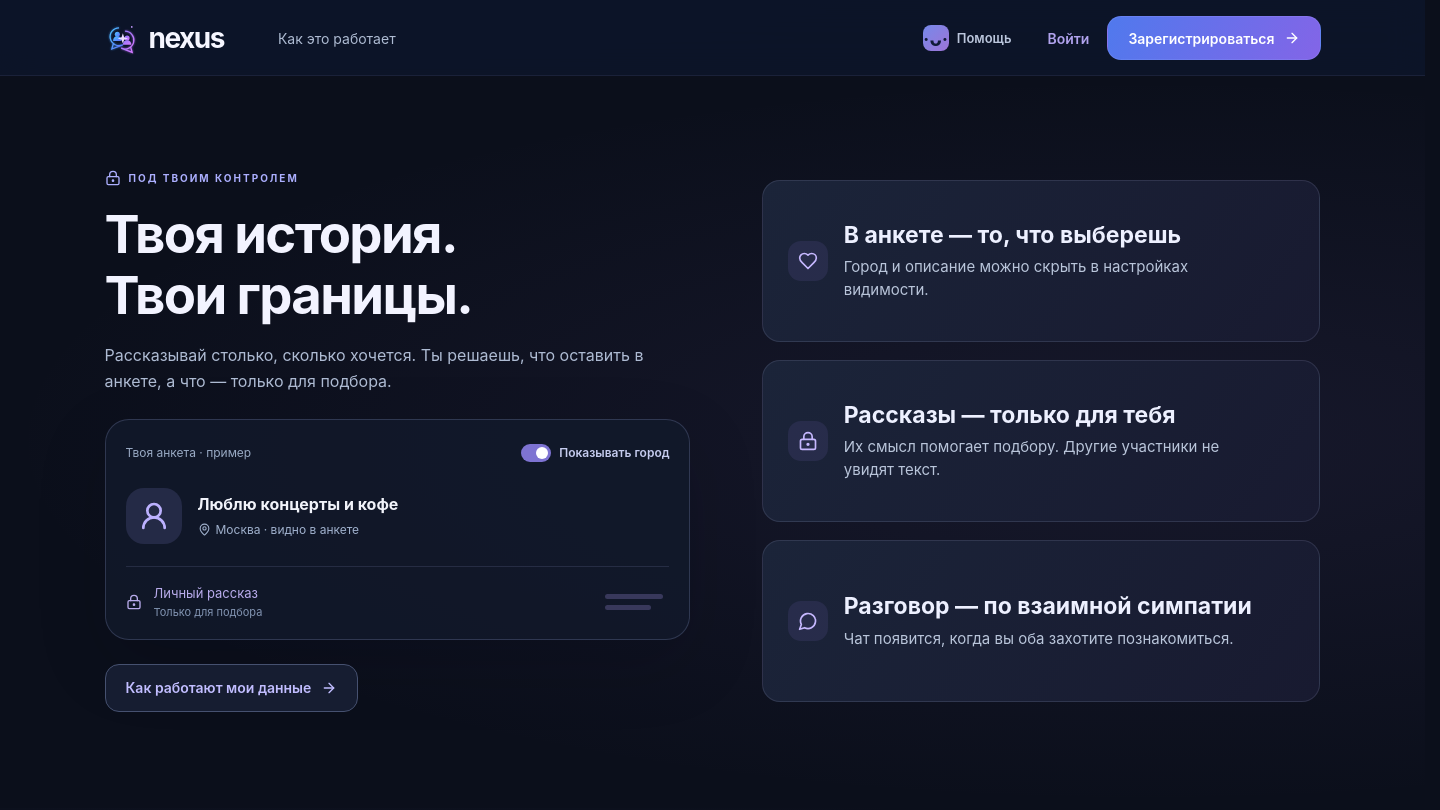
Test: demonstrates visibility without changing an account or starting signup
The width and height of the screenshot is (1440, 810).
(page scrolled)
Step 1. Click the switch labelled "Показывать город" → point(595, 453), box top-left (521, 440), bottom-right (670, 466)
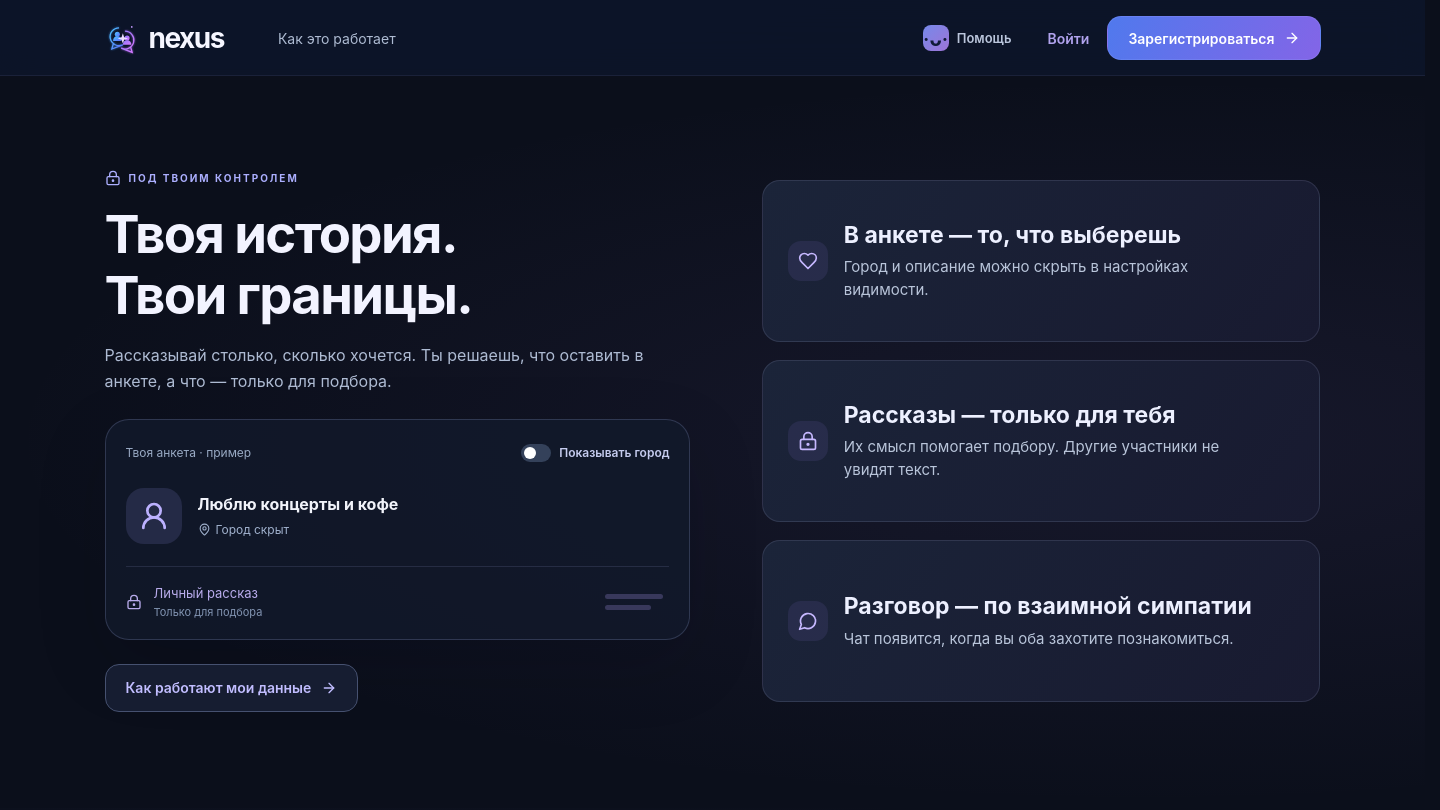
expect the text "Город скрыт" is shown: met, box top-left (198, 522), bottom-right (289, 537)
Step 2. Click the switch labelled "Показывать город" → point(595, 453), box top-left (521, 440), bottom-right (670, 466)
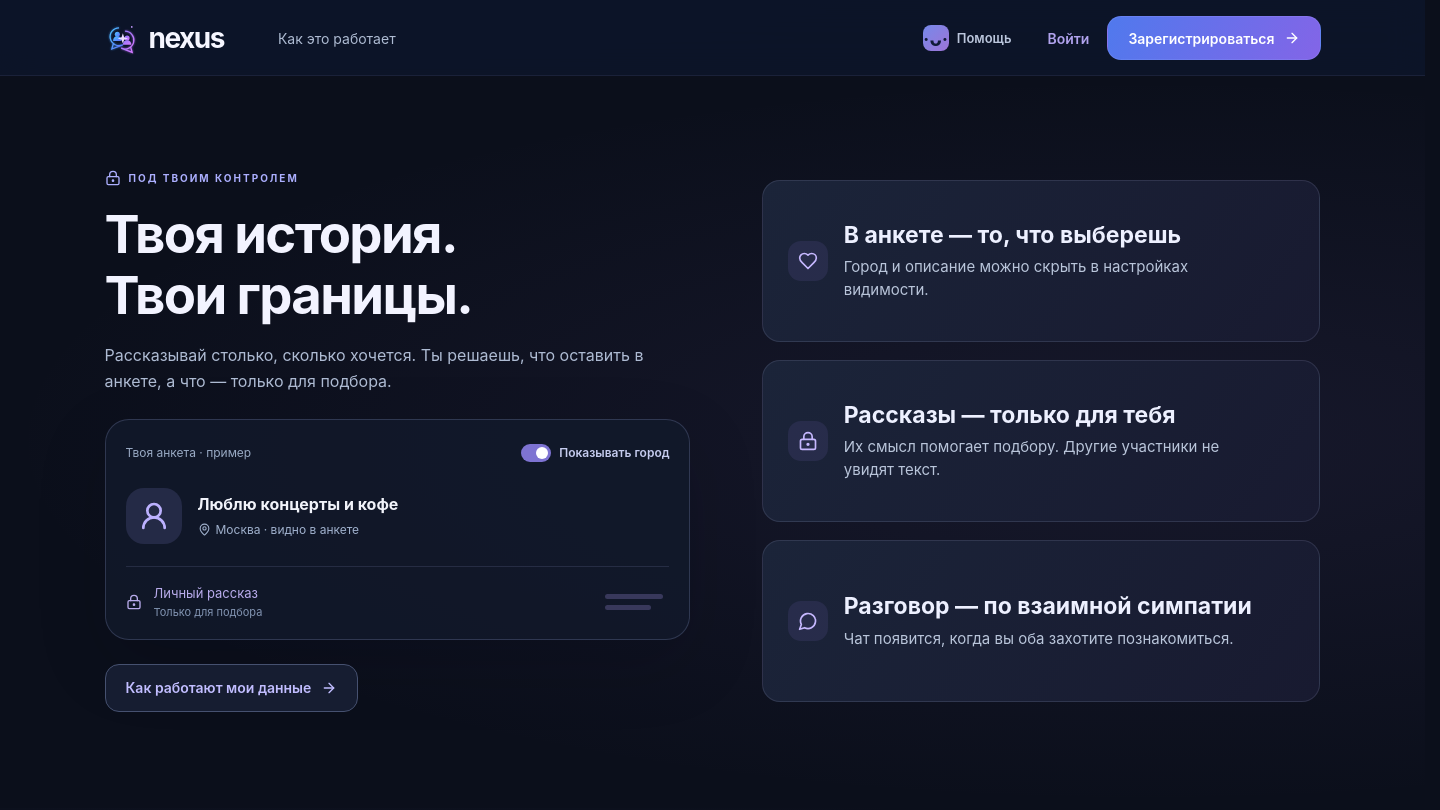
expect the text "Москва · видно в анкете" is shown: met, box top-left (198, 522), bottom-right (359, 537)
